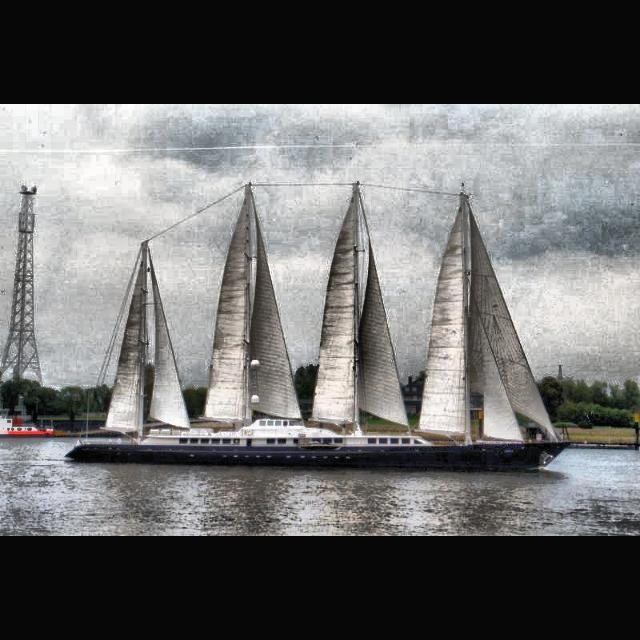sailing_vessel: (64, 182, 574, 472)
